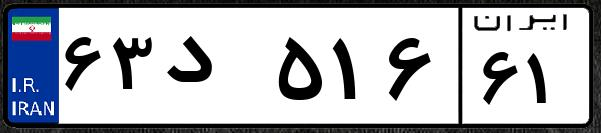1: (330, 28, 385, 110), (525, 38, 570, 115)
3: (110, 28, 158, 98)
5: (270, 28, 330, 110)
6: (385, 28, 445, 110), (57, 26, 110, 100), (475, 38, 525, 113)
د: (158, 20, 270, 120)
